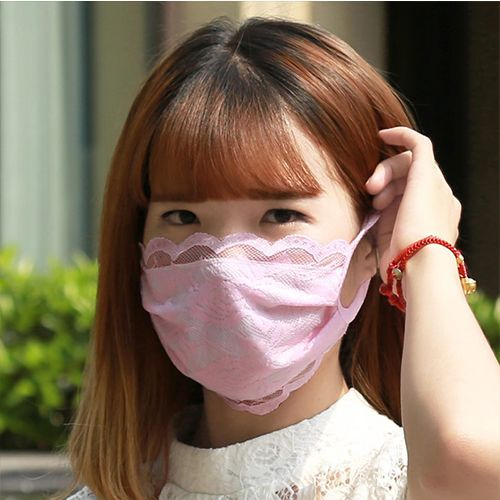face_mask: (143, 115, 352, 389)
